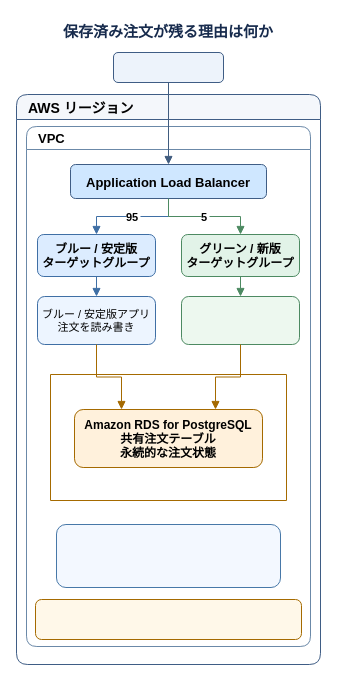
Some shapes in this 337 by 681 pixel diagram are drawn without their labels. The centre of each missing label's shape, as x and y in pixels:
ALB のルーティング設定 新しいチェックアウトリクエストのみ ブルー / 安定版: 95 グリーン / 新版: 5: point (168, 556)
グリーン / 新版アプリ 注文を読み書き: point (240, 320)
データベースの状態 確定済み注文は残る ルーティングの重みで行は書き換わらない: point (168, 619)
利用者: point (168, 67)
